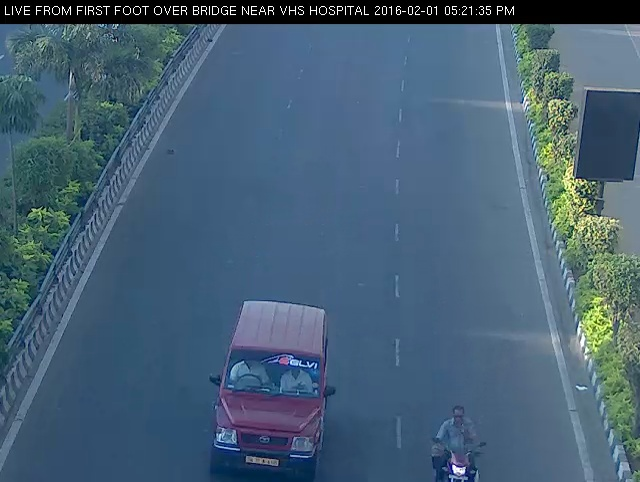Car: (199, 274, 345, 475)
Person: (415, 388, 507, 481)
